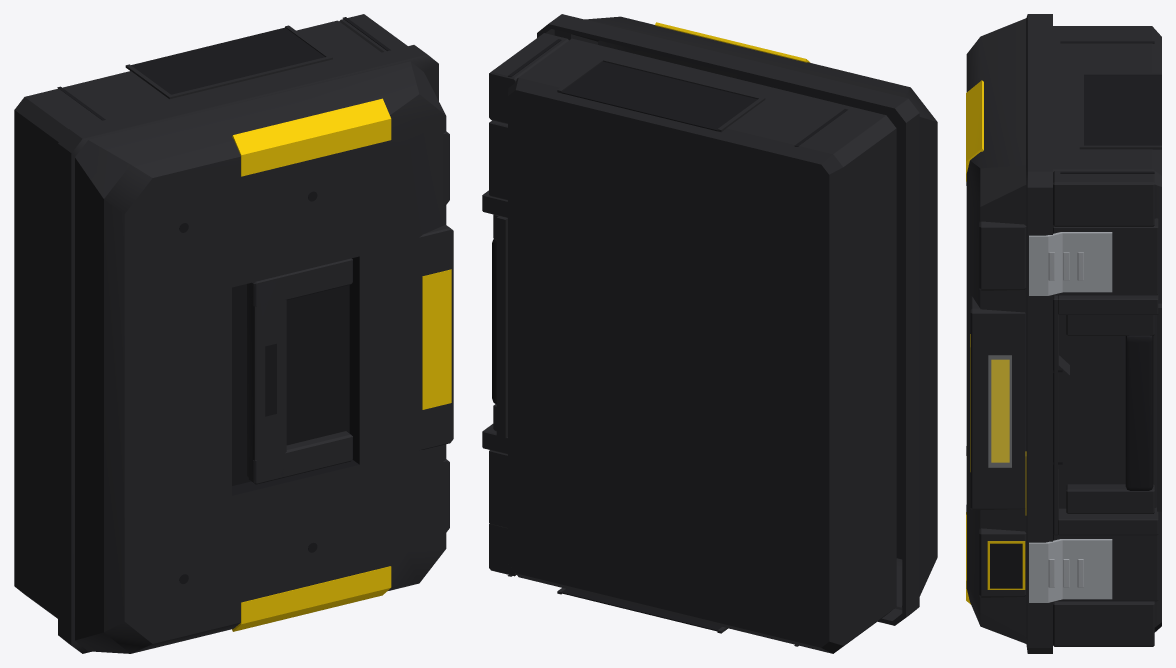
File: DWST83345.glb
The picture shows the model from 3 angles, left to right: view 1: azimuth 30°, elevation 25°; view 2: azimuth 150°, elevation 25°; view 3: azimuth 270°, elevation 25°; orthographic projection. The views are drawn at different scales.
Visible parts, largest first — view 1: vicko_plast, korpus_vana, vicko_kapsa, drzadlo_hmat, hak_stoh_p, bok_kapsa_p, hak_stoh_l, logo_dewalt, ostruvek, drzadlo_rameno_l, drzadlo_rameno_p, celo_sloupek_p (+2 smaller); view 2: korpus_vana, vicko_plast, bok_kapsa_p, kapsa_dno, celo_sloupek_p, celo_zona_p, celo_zona_l, bok_kapsa_l, celo_sloupek_l, madlo_hmatnice, hak_stoh_p, bok_ramecek_h_p; view 3: vicko_plast, korpus_vana, ostruvek, bok_kapsa_p, celo_sloupek_p, celo_sloupek_l, zamek_p, zamek_l, madlo_hmatnice, celo_zona_p, celo_zona_l, sloupek_p (+15 smaller).
Boxes of the visible parts, x1,y1,x2,y2 form: vicko_plast: [58, 45, 446, 653]; korpus_vana: [14, 20, 381, 618]; vicko_kapsa: [232, 256, 359, 495]; drzadlo_hmat: [247, 275, 286, 481]; hak_stoh_p: [232, 98, 391, 176]; bok_kapsa_p: [131, 27, 324, 94]; hak_stoh_l: [232, 566, 391, 631]; logo_dewalt: [422, 269, 451, 409]; ostruvek: [419, 225, 453, 450]; drzadlo_rameno_l: [248, 431, 352, 484]; drzadlo_rameno_p: [248, 258, 352, 306]; celo_sloupek_p: [339, 14, 407, 52]; korpus_vana: [508, 38, 896, 653]; vicko_plast: [537, 14, 937, 625]; bok_kapsa_p: [561, 61, 757, 131]; kapsa_dno: [496, 216, 507, 438]; celo_sloupek_p: [489, 33, 568, 123]; celo_zona_p: [489, 120, 507, 200]; celo_zona_l: [489, 450, 507, 528]; bok_kapsa_l: [561, 588, 721, 631]; celo_sloupek_l: [489, 523, 516, 576]; madlo_hmatnice: [492, 239, 496, 404]; hak_stoh_p: [655, 22, 810, 62]; bok_ramecek_h_p: [601, 58, 765, 100]; vicko_plast: [966, 14, 1052, 653]; korpus_vana: [1053, 26, 1161, 632]; ostruvek: [970, 296, 1025, 510]; bok_kapsa_p: [1084, 75, 1161, 145]; celo_sloupek_p: [1053, 171, 1154, 226]; celo_sloupek_l: [1053, 601, 1154, 646]; zamek_p: [1029, 232, 1112, 295]; zamek_l: [1029, 539, 1112, 602]; madlo_hmatnice: [1125, 335, 1153, 490]; celo_zona_p: [1053, 218, 1158, 295]; celo_zona_l: [1053, 534, 1158, 601]; sloupek_p: [979, 221, 1026, 290].
Bounding box in the file's own units: 333 × 440 × 162.
